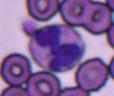N: (28, 24, 86, 72)
